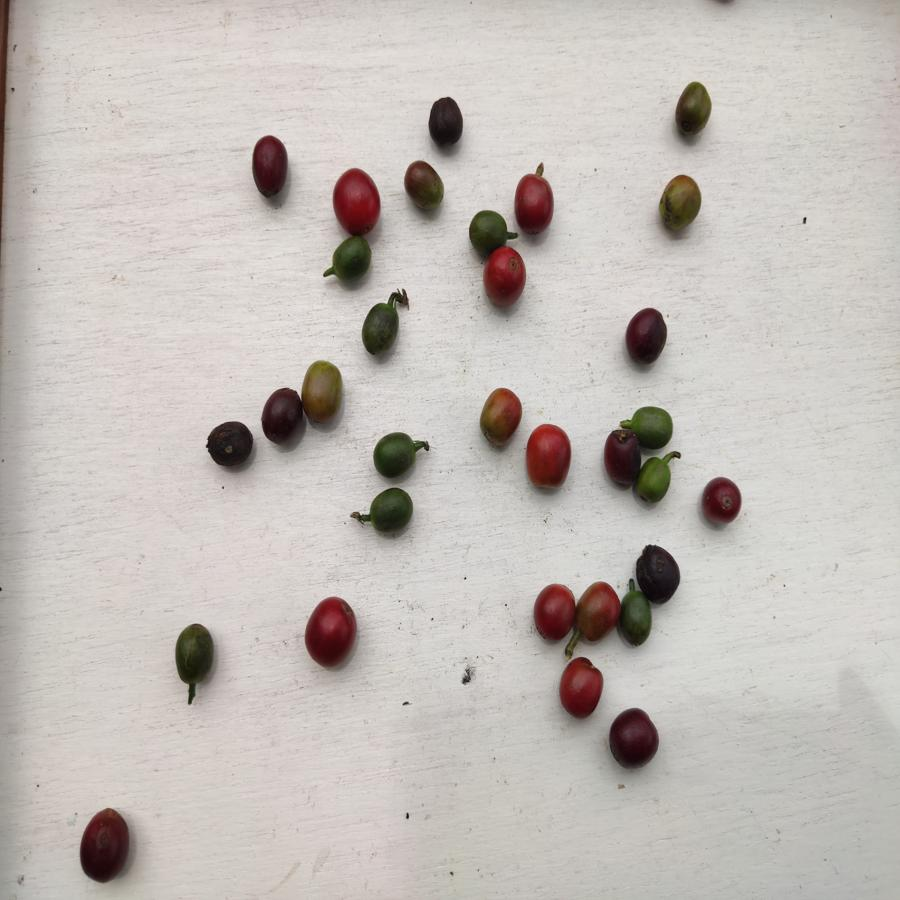Inmaduro: (173, 622, 214, 686), (364, 486, 415, 536), (371, 431, 421, 477), (361, 299, 400, 356), (329, 236, 373, 281), (631, 404, 676, 448), (639, 456, 677, 505), (469, 207, 515, 245), (621, 590, 650, 646)
Maduro: (303, 596, 359, 668), (526, 422, 574, 492), (333, 166, 382, 234), (557, 653, 605, 721), (484, 247, 529, 310), (576, 577, 617, 644), (532, 583, 577, 644), (511, 174, 555, 236)
Pinton: (476, 383, 522, 448), (657, 171, 706, 231), (301, 358, 342, 427), (673, 80, 713, 138), (404, 159, 445, 214)
Sobremaduro: (79, 806, 129, 888), (607, 705, 658, 767), (634, 543, 681, 603), (260, 385, 302, 446), (625, 306, 669, 363), (250, 137, 292, 196), (206, 419, 254, 466), (603, 427, 639, 488), (704, 474, 746, 525), (429, 97, 464, 148)
